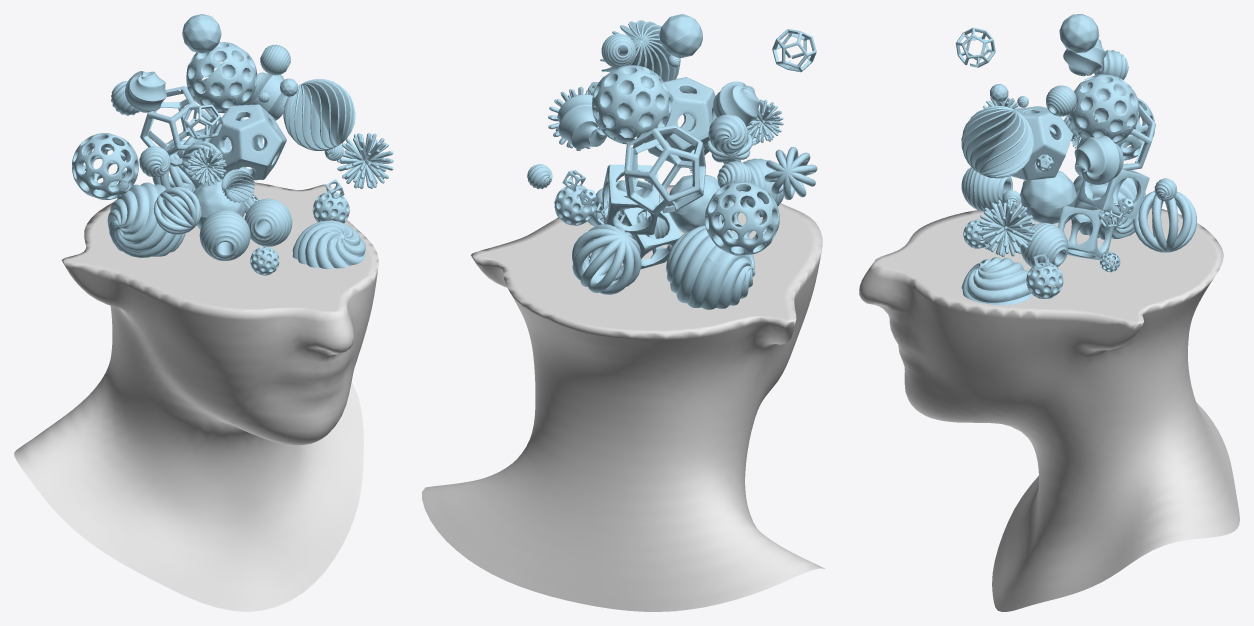
The model's file is Head-Open_03.glb.
3 views of the same model, side by side, from view 1: azimuth 30°, elevation 25°; view 2: azimuth 150°, elevation 25°; view 3: azimuth 270°, elevation 25° (orthographic). The views are drawn at different scales.
Parts seen in each view (by area): view 1: Bust_remesh, GSG_Doodads_Array_08_27_remesh, GSG_Doodads_Tetra_08_25_remesh, GSG_Doodads_Sphere_08_47_remesh, GSG_Doodads_Sphere_13_17_remesh, GSG_Doodads_Sphere_07_20_remesh, GSG_Doodads_Sphere_13_3_remesh, GSG_Doodads_Array_09_23_remesh, GSG_Doodads_Sphere_06_4_remesh, GSG_Doodads_Tetra_09_40_remesh, GSG_Doodads_Array_02_24_remesh, GSG_Doodads_Sphere_06_18_remesh (+13 smaller); view 2: Bust_remesh, GSG_Doodads_Sphere_13_17_remesh, GSG_Doodads_Sphere_08_47_remesh, GSG_Doodads_Sphere_07_20_remesh, GSG_Doodads_Tetra_09_40_remesh, GSG_Doodads_Array_02_38_remesh, GSG_Doodads_Tetra_08_25_remesh, GSG_Doodads_Cube_08_21_remesh, GSG_Doodads_Array_08_27_remesh, GSG_Doodads_Sphere_15_30_remesh, GSG_Doodads_Array_02_24_remesh, GSG_Doodads_Cube_08_35_remesh (+12 smaller); view 3: Bust_remesh, GSG_Doodads_Array_08_27_remesh, GSG_Doodads_Sphere_08_47_remesh, GSG_Doodads_Sphere_13_3_remesh, GSG_Doodads_Array_02_38_remesh, GSG_Doodads_Tetra_08_25_remesh, GSG_Doodads_Array_09_23_remesh, GSG_Doodads_Tetra_06_42_remesh, GSG_Doodads_Sphere_15_30_remesh, GSG_Doodads_Cube_08_35_remesh, GSG_Doodads_Cube_08_21_remesh, GSG_Doodads_Sphere_13_17_remesh (+10 smaller).
Boxes of the visible parts, x1,y1,x2,y2 form: Bust_remesh: [14, 182, 378, 611]; GSG_Doodads_Array_08_27_remesh: [283, 79, 355, 150]; GSG_Doodads_Tetra_08_25_remesh: [209, 104, 286, 180]; GSG_Doodads_Sphere_08_47_remesh: [186, 42, 257, 113]; GSG_Doodads_Sphere_13_17_remesh: [107, 182, 185, 257]; GSG_Doodads_Sphere_07_20_remesh: [72, 133, 138, 199]; GSG_Doodads_Sphere_13_3_remesh: [292, 220, 365, 269]; GSG_Doodads_Array_09_23_remesh: [337, 133, 393, 188]; GSG_Doodads_Sphere_06_4_remesh: [199, 210, 250, 260]; GSG_Doodads_Tetra_09_40_remesh: [140, 86, 216, 166]; GSG_Doodads_Array_02_24_remesh: [153, 187, 201, 234]; GSG_Doodads_Sphere_06_18_remesh: [244, 198, 292, 246]; Bust_remesh: [422, 185, 825, 611]; GSG_Doodads_Sphere_13_17_remesh: [666, 225, 755, 309]; GSG_Doodads_Sphere_08_47_remesh: [592, 65, 671, 144]; GSG_Doodads_Sphere_07_20_remesh: [704, 181, 779, 255]; GSG_Doodads_Tetra_09_40_remesh: [624, 125, 705, 214]; GSG_Doodads_Array_02_38_remesh: [572, 224, 641, 294]; GSG_Doodads_Tetra_08_25_remesh: [645, 77, 716, 164]; GSG_Doodads_Cube_08_21_remesh: [602, 164, 659, 234]; GSG_Doodads_Array_08_27_remesh: [600, 20, 680, 81]; GSG_Doodads_Sphere_15_30_remesh: [557, 94, 609, 149]; GSG_Doodads_Array_02_24_remesh: [764, 147, 817, 200]; GSG_Doodads_Cube_08_35_remesh: [618, 200, 681, 269]; Bust_remesh: [859, 204, 1239, 611]; GSG_Doodads_Array_08_27_remesh: [961, 105, 1033, 178]; GSG_Doodads_Sphere_08_47_remesh: [1068, 74, 1139, 143]; GSG_Doodads_Sphere_13_3_remesh: [961, 257, 1032, 304]; GSG_Doodads_Array_02_38_remesh: [1133, 191, 1196, 252]; GSG_Doodads_Tetra_08_25_remesh: [1011, 106, 1073, 180]; GSG_Doodads_Array_09_23_remesh: [977, 199, 1035, 257]; GSG_Doodads_Tetra_06_42_remesh: [1020, 171, 1076, 223]; GSG_Doodads_Sphere_15_30_remesh: [1074, 135, 1123, 184]; GSG_Doodads_Cube_08_35_remesh: [1058, 206, 1114, 260]; GSG_Doodads_Cube_08_21_remesh: [1077, 161, 1149, 218]; GSG_Doodads_Sphere_13_17_remesh: [1073, 175, 1145, 239].
Size of the model in its own units: 0.5297 by 0.8475 by 0.5122.
